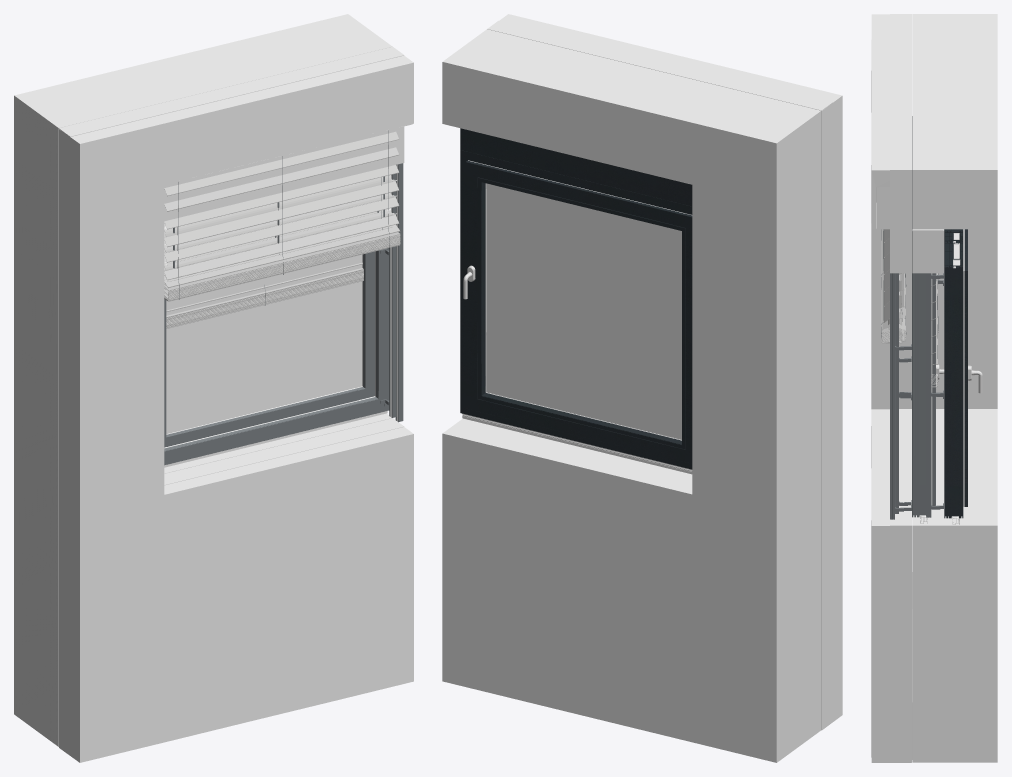
File: raf.glb
The picture shows the model from 3 angles, left to right: view 1: azimuth 30°, elevation 25°; view 2: azimuth 150°, elevation 25°; view 3: azimuth 270°, elevation 25°; orthographic projection. The views are drawn at different scales.
Visible parts, largest first — view 1: dg1, wall, w1glas, lamellenZ, dg2, w1profile-anthr, c80lamellen, c802lamellen, z90rf, c80rf, w1profile-gasket, w1FBA; view 2: wall, w2glas, w2profile-anthracite, dg1, verb, dg2, w2FBA, w2profile-gasket; view 3: wall, dg2, dg1, w2profile-anthracite, w1profile-anthr, c802box, z90rf, lamellenZ, c80rf, c802rf, z90box, verb (+4 smaller).
Boxes of the visible parts, box(x1,y1,x2,y2) form: dg1: box(59, 55, 413, 762); wall: box(14, 14, 392, 746); w1glas: box(166, 254, 362, 433); lamellenZ: box(164, 131, 400, 300); dg2: box(59, 46, 404, 485); w1profile-anthr: box(164, 248, 389, 465); c80lamellen: box(164, 175, 392, 285); c802lamellen: box(166, 262, 363, 328); z90rf: box(395, 163, 403, 422); c80rf: box(389, 173, 396, 417); w1profile-gasket: box(164, 251, 375, 448); w1FBA: box(164, 411, 387, 467); wall: box(442, 29, 821, 762); w2glas: box(486, 183, 681, 439); w2profile-anthracite: box(460, 150, 692, 469); dg1: box(500, 14, 842, 729); verb: box(460, 128, 692, 206); dg2: box(487, 20, 832, 730); w2FBA: box(462, 413, 692, 474); w2profile-gasket: box(468, 160, 691, 440); wall: box(912, 14, 997, 762); dg2: box(890, 14, 911, 762); dg1: box(871, 14, 912, 762); w2profile-anthracite: box(944, 229, 967, 518); w1profile-anthr: box(912, 116, 935, 517); c802box: box(912, 229, 943, 273); z90rf: box(890, 273, 894, 519); lamellenZ: box(881, 229, 902, 342); c80rf: box(895, 273, 898, 513); c802rf: box(926, 273, 931, 517); z90box: box(872, 187, 889, 229); verb: box(944, 229, 963, 267).
Bounding box in the file's own units: 158 × 280 × 54.04.
22 materials, 1 textured.
